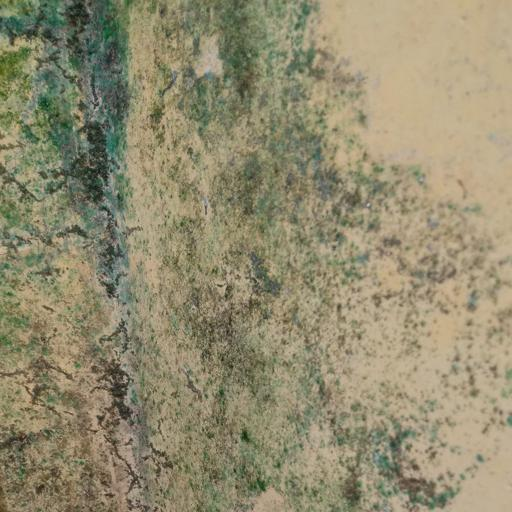algae: (0, 0, 456, 511)
